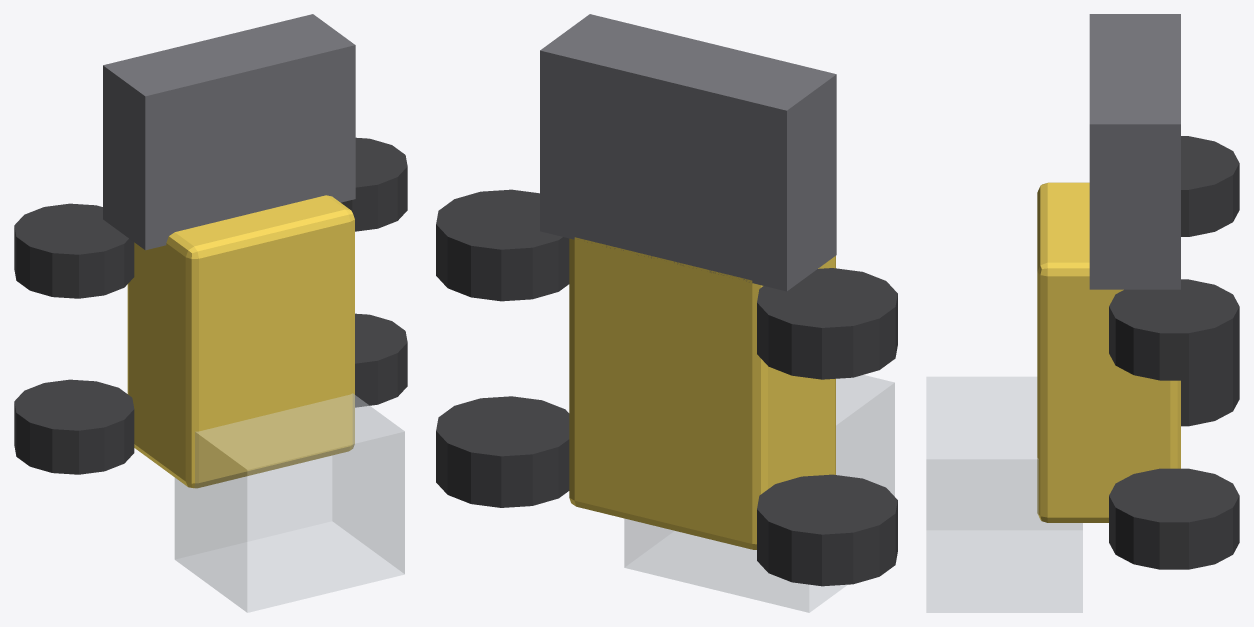
Rendered from tractor.glb.
3 renders of one model, left to right at view 1: azimuth 30°, elevation 25°; view 2: azimuth 150°, elevation 25°; view 3: azimuth 270°, elevation 25°, orthographic. The views are drawn at different scales.
Parts seen in each view (by area): view 1: tractor_body, tractor_scoop, tractor_cab, tr_wheel_0, tr_wheel_2, tr_wheel_3, tr_wheel_1; view 2: tractor_scoop, tractor_body, tractor_cab, tr_wheel_0, tr_wheel_1, tr_wheel_2, tr_wheel_3; view 3: tractor_cab, tractor_body, tractor_scoop, tr_wheel_1, tr_wheel_3, tr_wheel_2, tr_wheel_0.
Boxes of the visible parts, bbox=[...] form: tractor_body: bbox=[127, 195, 354, 488]; tractor_scoop: bbox=[103, 14, 355, 250]; tractor_cab: bbox=[174, 393, 404, 612]; tr_wheel_0: bbox=[14, 379, 134, 474]; tr_wheel_2: bbox=[14, 203, 134, 298]; tr_wheel_3: bbox=[341, 137, 407, 231]; tr_wheel_1: bbox=[355, 313, 407, 407]; tractor_scoop: bbox=[540, 14, 836, 291]; tractor_body: bbox=[569, 237, 835, 549]; tractor_cab: bbox=[624, 375, 894, 612]; tr_wheel_0: bbox=[757, 474, 897, 586]; tr_wheel_1: bbox=[436, 396, 569, 507]; tr_wheel_2: bbox=[757, 268, 897, 379]; tr_wheel_3: bbox=[436, 189, 569, 301]; tractor_cab: bbox=[926, 376, 1082, 612]; tractor_body: bbox=[1037, 182, 1180, 522]; tractor_scoop: bbox=[1089, 14, 1180, 289]; tr_wheel_1: bbox=[1109, 468, 1239, 569]; tr_wheel_3: bbox=[1109, 279, 1239, 380]; tr_wheel_2: bbox=[1181, 136, 1239, 236]; tr_wheel_0: bbox=[1181, 354, 1239, 426].
Bounding box in the file's own units: 3.57 × 4.25 × 2.4.
